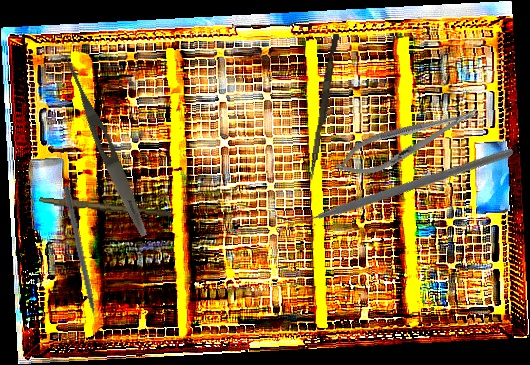Chopper: (273, 59, 515, 308)
Dressing Forceps: (56, 52, 153, 239)
Needle Holder: (330, 95, 486, 187)
Pusher: (61, 184, 102, 338), (308, 33, 340, 181)
Scalpel Handle: (38, 197, 173, 218)
